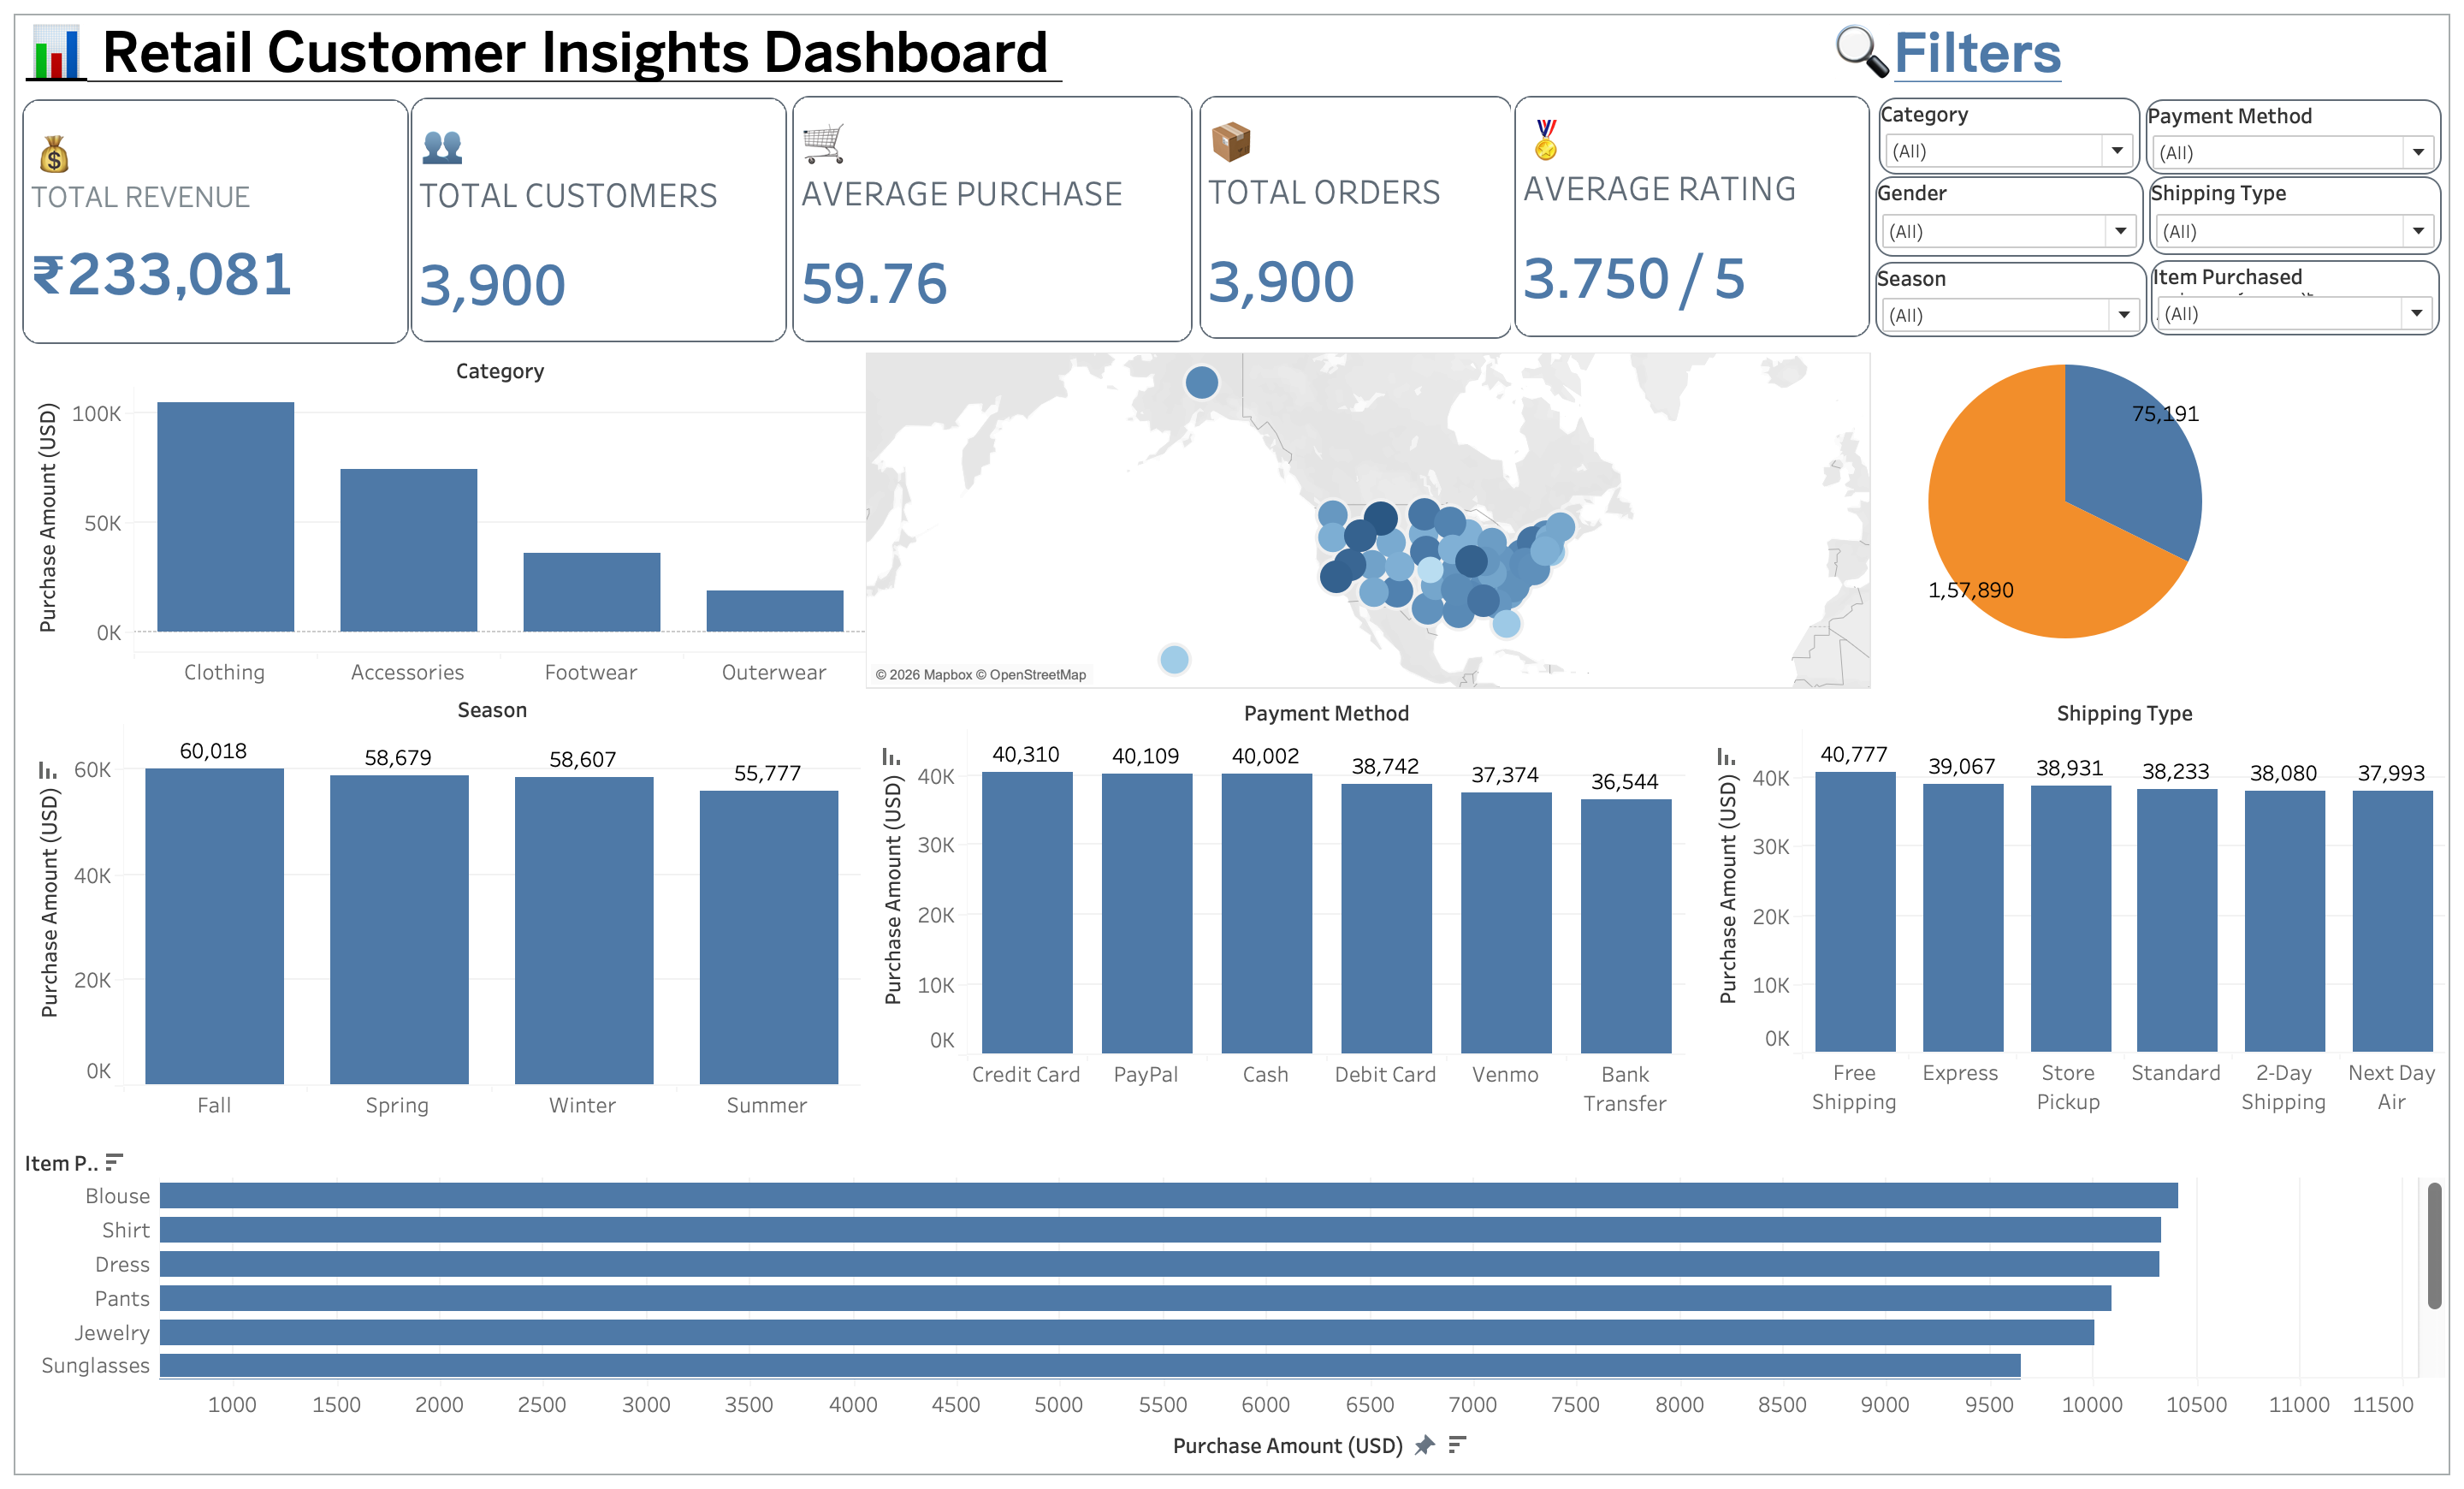

Layout of this report page (visuals, bound fields, positions):
{"tool":"tableau","page":{"name":"Dashboard 2","canvas":[1000,1000],"units":"permille","ordinal":0},"visuals":[{"type":"title","box":[6.4,11.1,987.3,53.2]},{"type":"worksheet","title":"Sheet 11","mark":"Automatic","box":[321.4,64.4,162.7,165.8]},{"type":"worksheet","title":"Sheet 12","mark":"Automatic","box":[486.6,64.4,126.9,163.4]},{"type":"worksheet","title":"Sheet 13","mark":"Automatic","box":[614.3,64.4,145.7,162.1]},{"type":"worksheet","title":"Sheet 10","mark":"Automatic","box":[166.8,65.6,153,164.6]},{"type":"filter","title":"Sheet 1","param":"[federated.1g882ca1rvhghc1gvxww01rrkudb].[none:Category:nk]","box":[762.4,65.6,106.6,52]},{"type":"worksheet","title":"Sheet 9","mark":"Automatic","box":[9,66.8,157,164.6]},{"type":"filter","title":"Sheet 6","param":"[federated.1g882ca1rvhghc1gvxww01rrkudb].[none:Payment Method:nk]","box":[870.6,66.8,120.4,50.7]},{"type":"filter","title":"Sheet 2","param":"[federated.1g882ca1rvhghc1gvxww01rrkudb].[none:Gender:nk]","box":[760.8,118.8,109,54.5]},{"type":"filter","title":"Sheet 7","param":"[federated.1g882ca1rvhghc1gvxww01rrkudb].[none:Shipping Type:nk]","box":[872.2,118.8,118.8,53.2]},{"type":"filter","title":"Sheet 8","param":"[federated.1g882ca1rvhghc1gvxww01rrkudb].[none:Item Purchased:nk]","box":[873.1,174.5,117.2,50.7]},{"type":"filter","title":"Sheet 5","param":"[federated.1g882ca1rvhghc1gvxww01rrkudb].[none:Season:nk]","box":[760.8,175.7,110.7,50.7]},{"type":"worksheet","title":"Sheet 1","mark":"Automatic","rows":["Purchase Amount (USD)"],"cols":["Category"],"box":[8.1,236.4,343.4,225.2]},{"type":"worksheet","title":"Sheet 4","mark":"Automatic","box":[351.5,236.4,408.5,226.5]},{"type":"worksheet","title":"Sheet 5","mark":"Automatic","rows":["Purchase Amount (USD)"],"cols":["Season"],"box":[9,466.6,340.1,285.9]},{"type":"worksheet","title":"Sheet 6","mark":"Automatic","rows":["Purchase Amount (USD)"],"cols":["Payment Method"],"box":[351.5,466.6,332.8,287.1]},{"type":"worksheet","title":"Sheet 7","mark":"Automatic","rows":["Purchase Amount (USD)"],"cols":["Shipping Type"],"box":[690,466.6,302.7,285.9]},{"type":"worksheet","title":"Sheet 8","mark":"Automatic","rows":["Item Purchased"],"cols":["Purchase Amount (USD)"],"box":[9,767.3,983.7,220.3]}]}

Visuals, with their boxes on the dashboard's canvas, which has no fixed pixel size, in thousandths of its width and height (x1, y1, x2, y2). These are canvas units, not pixel positions in the 2464x1489 screenshot, which may show the page scaled, cropped or inside an application window:
title: {"left": 6, "top": 11, "right": 994, "bottom": 64}
"Sheet 11" worksheet: {"left": 321, "top": 64, "right": 484, "bottom": 230}
"Sheet 12" worksheet: {"left": 487, "top": 64, "right": 614, "bottom": 228}
"Sheet 13" worksheet: {"left": 614, "top": 64, "right": 760, "bottom": 226}
"Sheet 10" worksheet: {"left": 167, "top": 66, "right": 320, "bottom": 230}
"Sheet 1" filter: {"left": 762, "top": 66, "right": 869, "bottom": 118}
"Sheet 9" worksheet: {"left": 9, "top": 67, "right": 166, "bottom": 231}
"Sheet 6" filter: {"left": 871, "top": 67, "right": 991, "bottom": 118}
"Sheet 2" filter: {"left": 761, "top": 119, "right": 870, "bottom": 173}
"Sheet 7" filter: {"left": 872, "top": 119, "right": 991, "bottom": 172}
"Sheet 8" filter: {"left": 873, "top": 174, "right": 990, "bottom": 225}
"Sheet 5" filter: {"left": 761, "top": 176, "right": 872, "bottom": 226}
"Sheet 1" worksheet: {"left": 8, "top": 236, "right": 352, "bottom": 462}
"Sheet 4" worksheet: {"left": 352, "top": 236, "right": 760, "bottom": 463}
"Sheet 5" worksheet: {"left": 9, "top": 467, "right": 349, "bottom": 752}
"Sheet 6" worksheet: {"left": 352, "top": 467, "right": 684, "bottom": 754}
"Sheet 7" worksheet: {"left": 690, "top": 467, "right": 993, "bottom": 752}
"Sheet 8" worksheet: {"left": 9, "top": 767, "right": 993, "bottom": 988}
